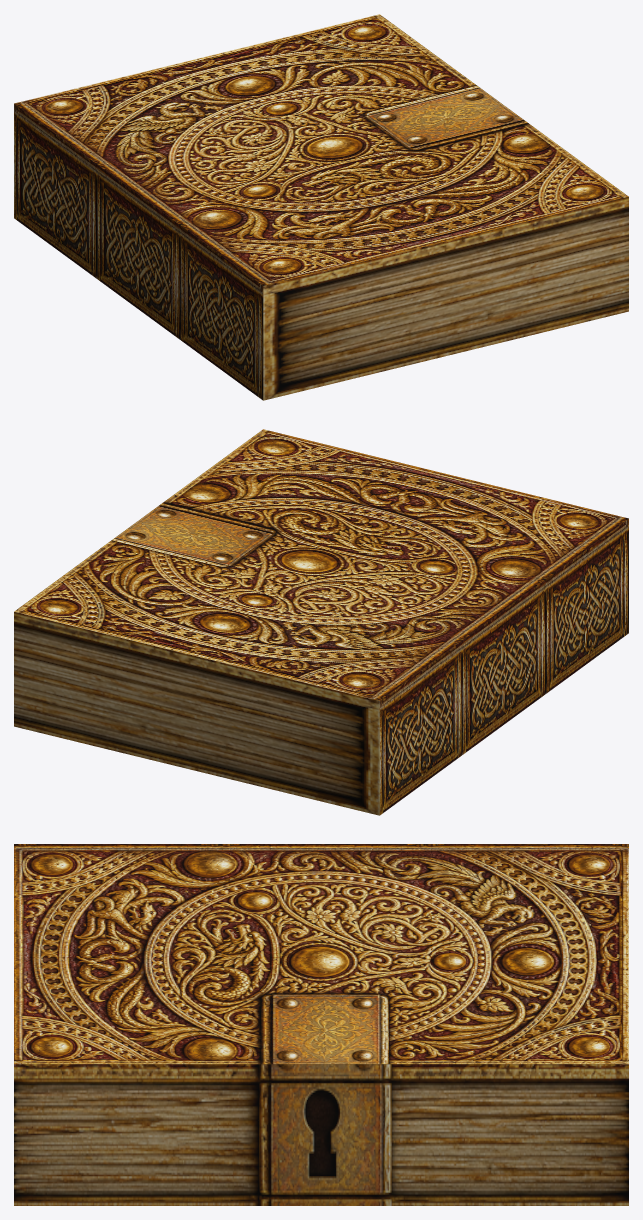
File: mm9_deco_greatbook.glb
The picture shows the model from 3 angles, top to bottom: view 1: azimuth 30°, elevation 25°; view 2: azimuth 150°, elevation 25°; view 3: azimuth 270°, elevation 25°; orthographic projection. The views are drawn at different scales.
Parts seen in each view (by area): view 1: Greatbook; view 2: Greatbook; view 3: Greatbook.
Part boxes in pixels (bbox=[...]): Greatbook: bbox=[14, 14, 628, 400]; Greatbook: bbox=[14, 429, 628, 815]; Greatbook: bbox=[14, 844, 628, 1205].
Size of the model in its own units: 0.6196 by 0.1859 by 0.7316.
Materials: 1 (1 with a texture image).
